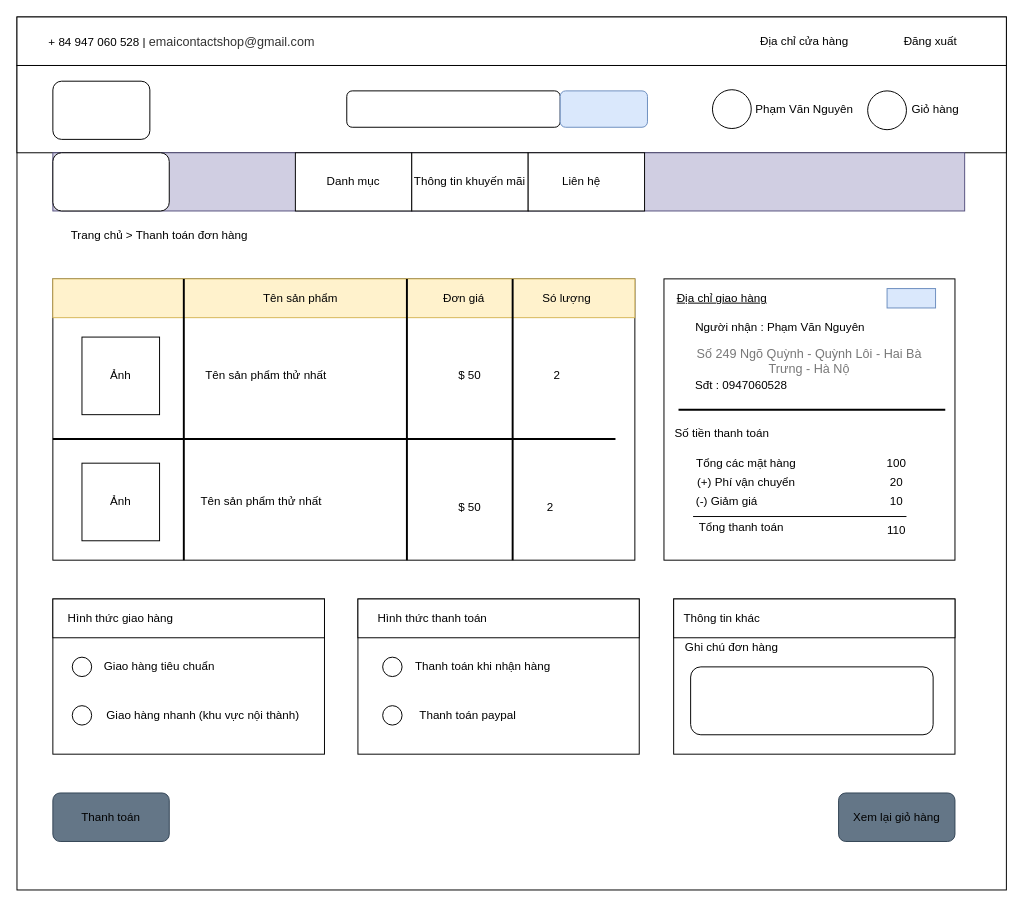
Image size: 1023x907. Some labels were removed from this diagram. Each missing label, with the centre of its shape:
"Logo shop" belongs at [101,109].
"thay đổi" belongs at [911,298].
"Trang chủ" belongs at [110,181].
"Tìm kiếm" belongs at [603,108].
